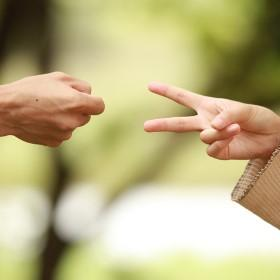gu-: (13, 70, 106, 148)
tyoki: (143, 80, 269, 161)
